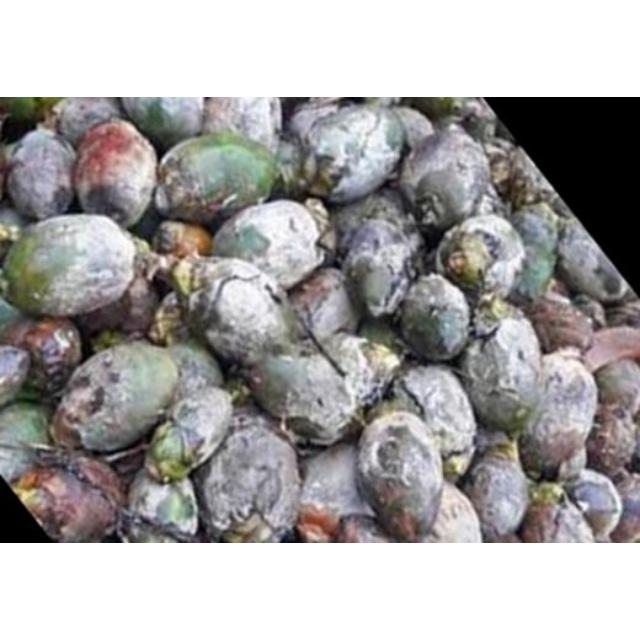damaged: (51, 339, 182, 456), (3, 214, 137, 320), (252, 337, 372, 443), (296, 105, 408, 205), (456, 314, 546, 434), (210, 198, 324, 292), (518, 351, 600, 475), (399, 125, 493, 232), (389, 363, 478, 471), (337, 214, 423, 322), (143, 384, 234, 484), (198, 259, 278, 347), (396, 274, 474, 360), (288, 266, 362, 344), (161, 338, 225, 406)
